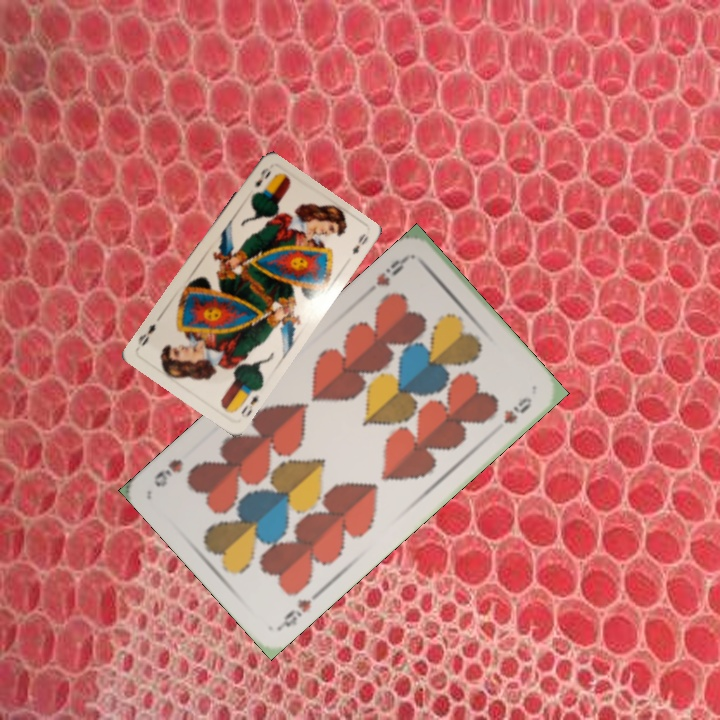EO: (235, 385, 262, 418), (250, 164, 273, 190)
H9: (371, 251, 412, 289), (275, 595, 314, 632)
